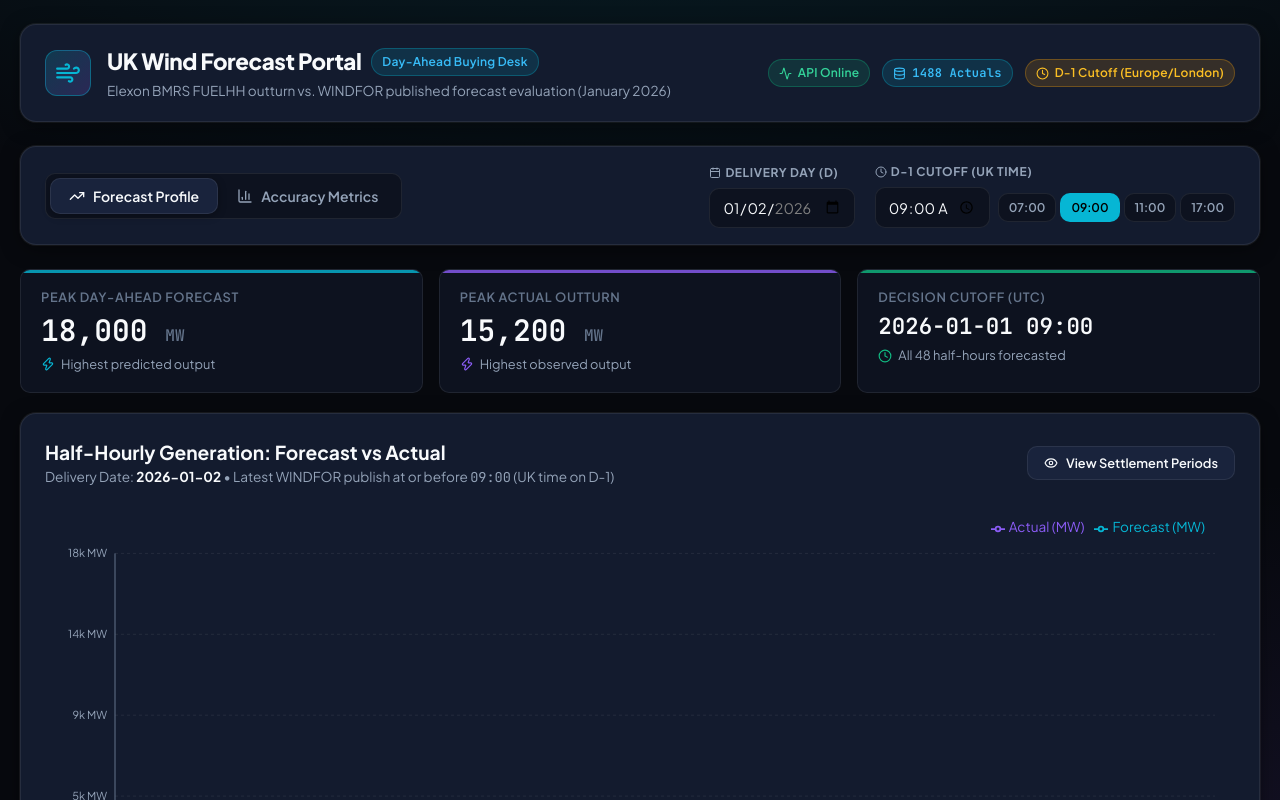
Wind Forecast Portal App › switches to accuracy view when clicking the Accuracy tab
This screenshot has width=1280, height=800.
Click the tab "Accuracy Metrics": (308, 196) [218,178,398,214]
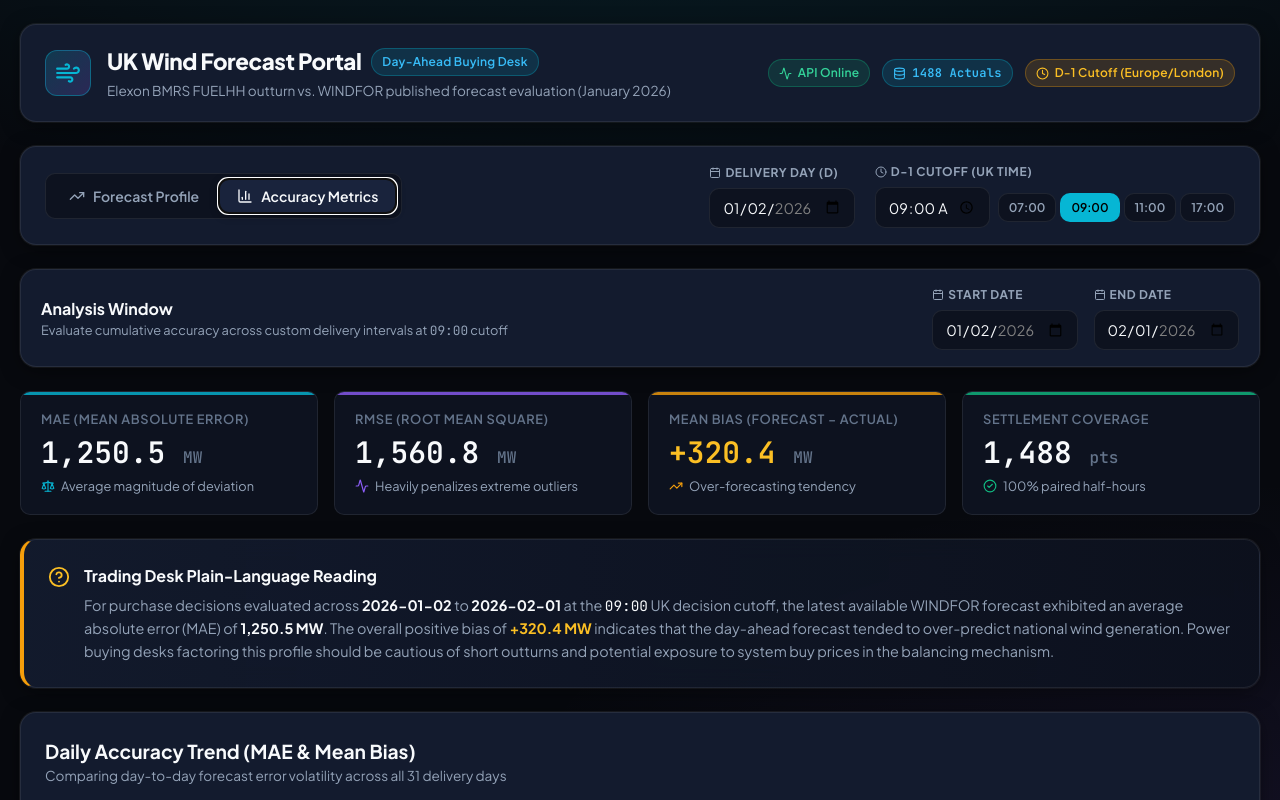
Check: the text "MAE (Mean Absolute Error)" is shown, box [41,411,249,427]
Check: the text "RMSE (Root Mean Square)" is shown, box [355,411,549,427]
Check: the heading "Trading Desk Plain-Language Reading" is shown, box [84,565,377,586]
